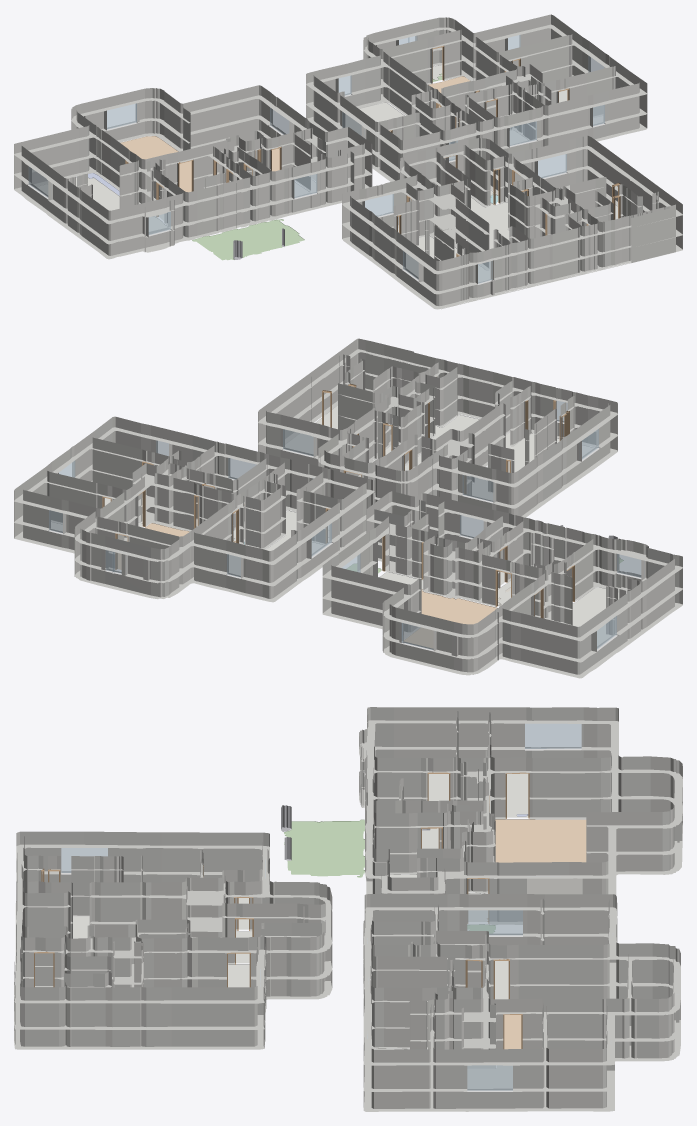
The picture shows the model from 3 angles, top to bottom: view 1: azimuth 30°, elevation 25°; view 2: azimuth 150°, elevation 25°; view 3: azimuth 270°, elevation 25°; orthographic projection. The views are drawn at different scales.
Visible parts, largest first — view 1: walls, floor_0_Outdoor, floor_20_Undefined, floor_5_Living_Room, floor_32_Undefined, floor_31_Undefined, window_36, window_55, window_52, window_54, window_50; view 2: walls, floor_5_Living_Room, floor_20_Undefined, floor_32_Undefined, floor_31_Undefined, floor_18_Undefined, window_54, window_36, window_55; view 3: walls, floor_5_Living_Room, floor_0_Outdoor, floor_32_Undefined, window_46, window_47, floor_20_Undefined, window_48, floor_29_Undefined, window_45, floor_4_Living_Room.
Boxes of the visible parts, x1,y1,x2,y2 form: walls: [14, 14, 682, 309]; floor_0_Outdoor: [192, 219, 304, 260]; floor_20_Undefined: [398, 190, 509, 281]; floor_5_Living_Room: [120, 136, 279, 192]; floor_32_Undefined: [37, 177, 167, 231]; floor_31_Undefined: [345, 102, 455, 159]; window_36: [107, 103, 136, 129]; window_55: [538, 154, 566, 178]; window_52: [509, 121, 536, 145]; window_54: [365, 194, 393, 216]; window_50: [294, 174, 317, 197]; walls: [14, 338, 682, 678]; floor_5_Living_Room: [404, 589, 497, 648]; floor_20_Undefined: [371, 415, 593, 500]; floor_32_Undefined: [572, 587, 618, 645]; floor_31_Undefined: [229, 510, 323, 575]; floor_18_Undefined: [285, 405, 337, 453]; window_54: [462, 475, 493, 501]; window_36: [402, 623, 433, 649]; window_55: [283, 429, 313, 455]; walls: [14, 707, 682, 1111]; floor_5_Living_Room: [487, 819, 586, 921]; floor_0_Outdoor: [284, 819, 364, 877]; floor_32_Undefined: [428, 773, 528, 817]; window_46: [525, 723, 581, 748]; window_47: [467, 910, 522, 935]; floor_20_Undefined: [73, 898, 249, 987]; window_48: [467, 1065, 512, 1090]; floor_29_Undefined: [467, 1065, 512, 1088]; window_45: [527, 878, 582, 894]; floor_4_Living_Room: [504, 1015, 521, 1049].
Bounding box in the file's own units: 33.7 × 2.72 × 27.57.
